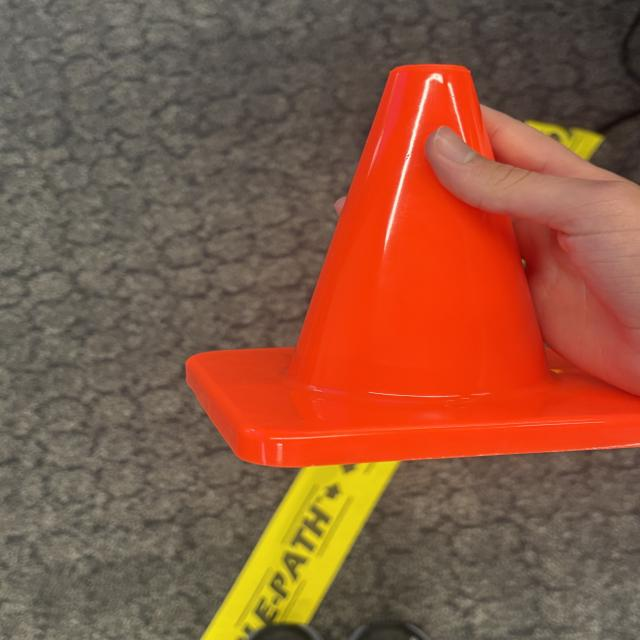Traffic Cone: (178, 52, 640, 472)
